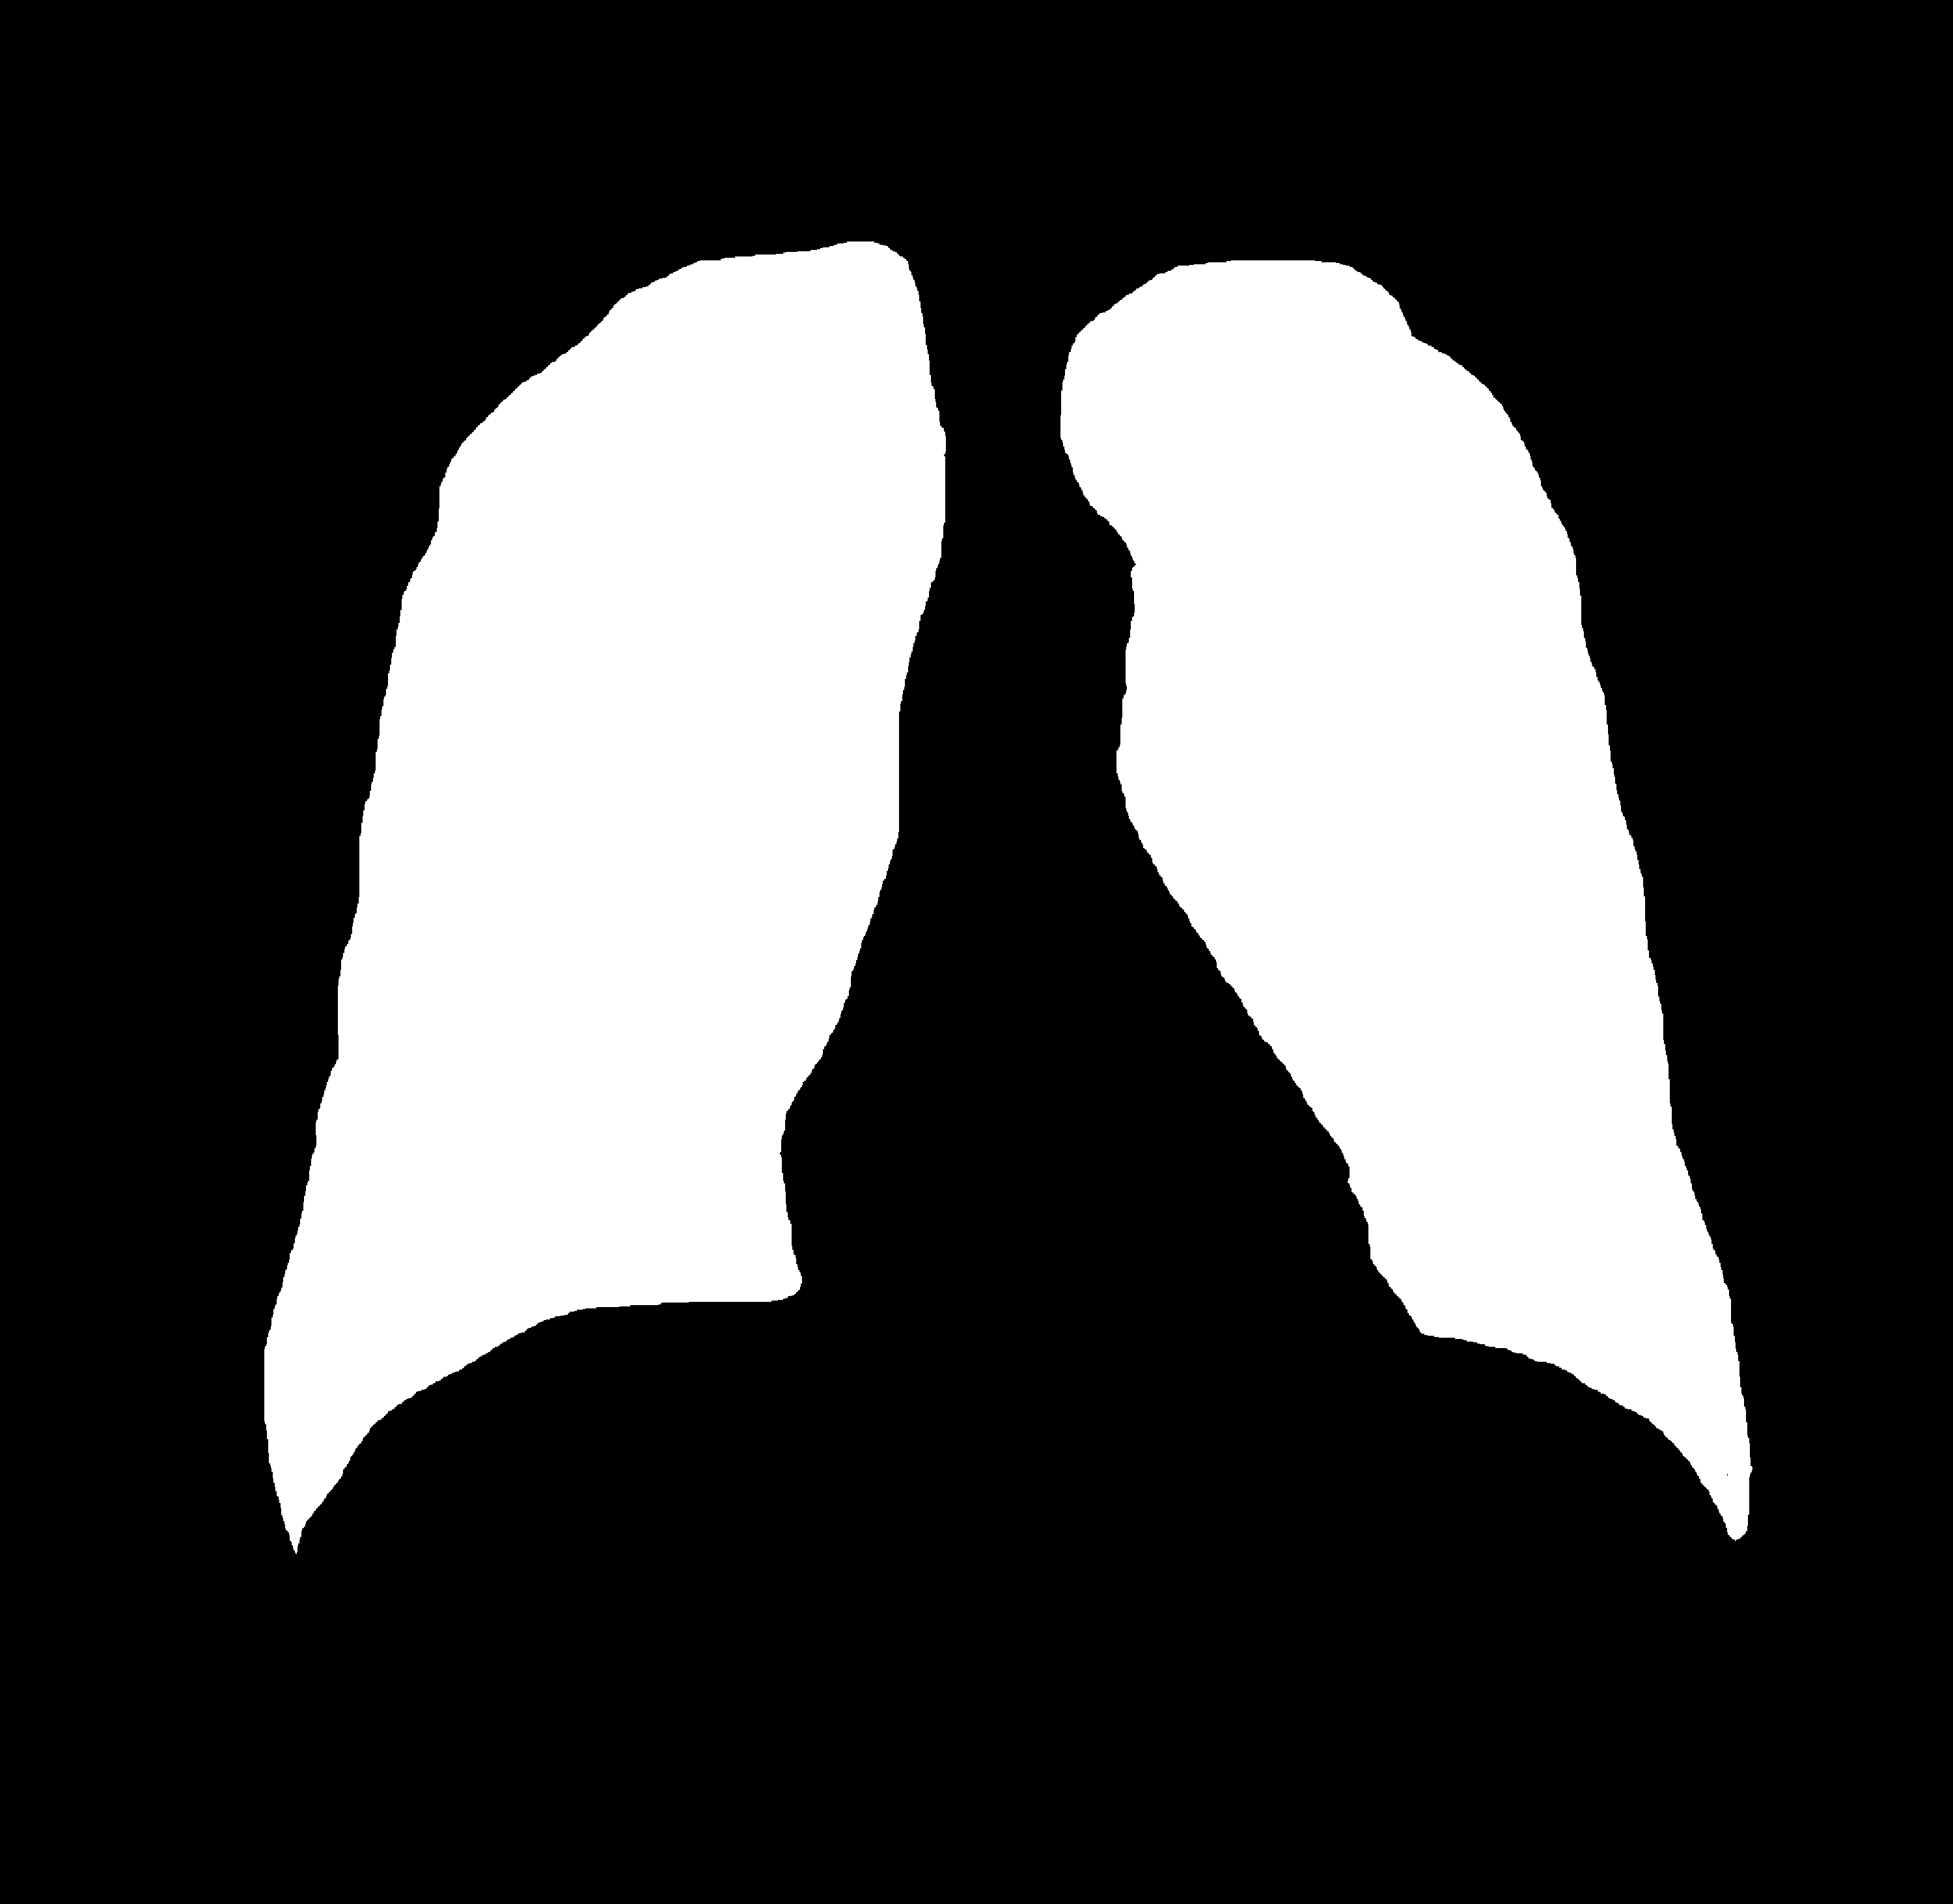heart: (774, 971, 1369, 1391)
left_lung: (265, 242, 945, 1554)
right_lung: (1060, 260, 1752, 1540)
